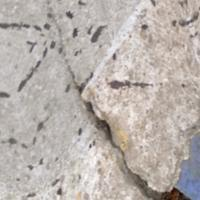crack: (50, 24, 184, 199)
